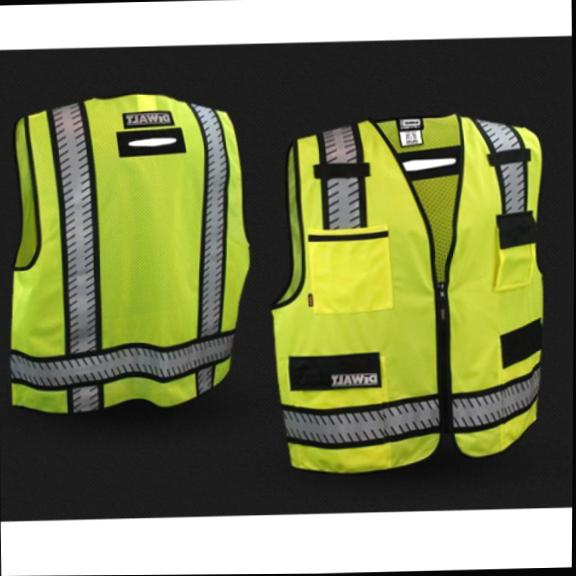safety_vest: (264, 109, 550, 476), (5, 82, 252, 416)
